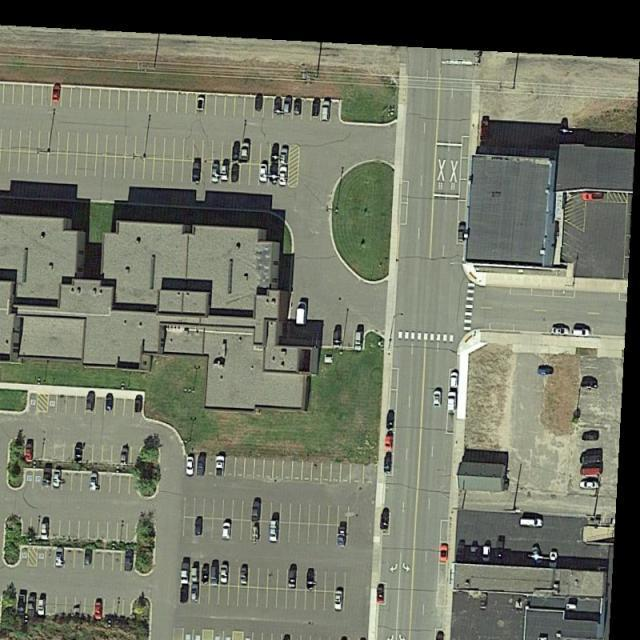vehicle: (445, 391, 457, 414), (582, 466, 604, 478), (296, 302, 306, 326), (251, 501, 262, 522), (269, 519, 279, 542), (215, 455, 225, 477), (531, 546, 542, 566), (580, 455, 602, 465), (380, 510, 391, 530), (124, 550, 134, 571), (469, 543, 480, 562), (197, 454, 206, 477), (495, 540, 504, 563), (17, 592, 26, 615), (521, 518, 543, 527), (28, 594, 36, 618), (549, 550, 559, 569), (581, 432, 600, 442), (51, 85, 62, 102), (55, 547, 64, 567), (278, 166, 287, 186), (192, 162, 201, 182), (181, 562, 189, 584), (338, 526, 346, 548), (134, 395, 143, 414), (190, 583, 199, 602), (222, 522, 231, 541), (255, 95, 264, 114), (580, 481, 599, 490), (386, 410, 395, 429), (42, 467, 52, 484), (480, 592, 490, 609), (582, 192, 603, 200), (322, 101, 330, 122), (259, 164, 268, 182), (458, 224, 467, 242), (180, 585, 189, 603), (26, 442, 34, 462), (334, 590, 342, 610), (90, 471, 98, 491), (210, 566, 218, 586), (186, 456, 194, 476), (354, 331, 362, 351), (270, 164, 277, 186), (552, 327, 569, 336), (333, 329, 342, 346), (384, 455, 392, 474), (195, 516, 203, 535), (377, 584, 385, 603), (580, 382, 599, 390), (280, 147, 288, 165), (434, 390, 442, 408), (221, 565, 229, 583), (106, 394, 114, 412), (385, 434, 394, 450), (306, 572, 314, 590), (274, 96, 282, 114), (41, 522, 49, 539), (74, 445, 82, 462), (450, 371, 458, 388), (538, 367, 555, 375), (283, 97, 291, 114), (86, 394, 94, 411), (84, 550, 93, 565), (212, 163, 219, 182), (38, 599, 46, 615), (573, 329, 589, 337), (312, 101, 320, 117), (241, 566, 248, 584), (53, 470, 60, 488), (441, 544, 448, 562), (289, 570, 296, 588), (242, 143, 249, 161), (196, 97, 205, 111), (121, 447, 129, 462), (95, 602, 102, 619), (221, 165, 228, 181), (232, 145, 239, 161), (483, 546, 490, 562), (294, 99, 301, 114), (273, 146, 279, 163), (232, 165, 238, 182), (192, 568, 198, 582), (202, 569, 208, 583), (436, 634, 443, 640)
